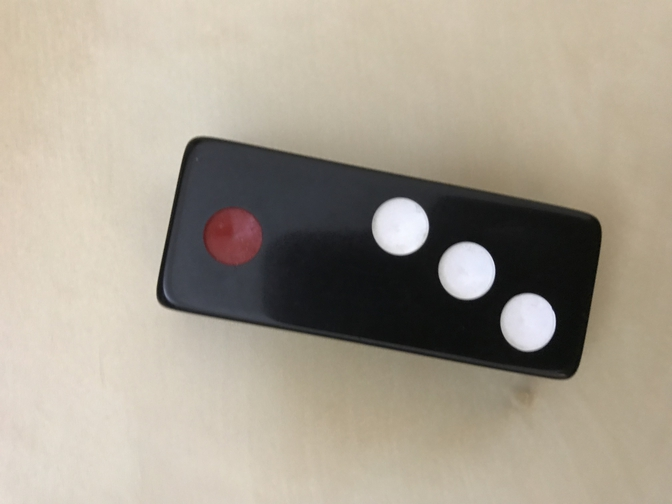goose: (155, 136, 602, 380)
